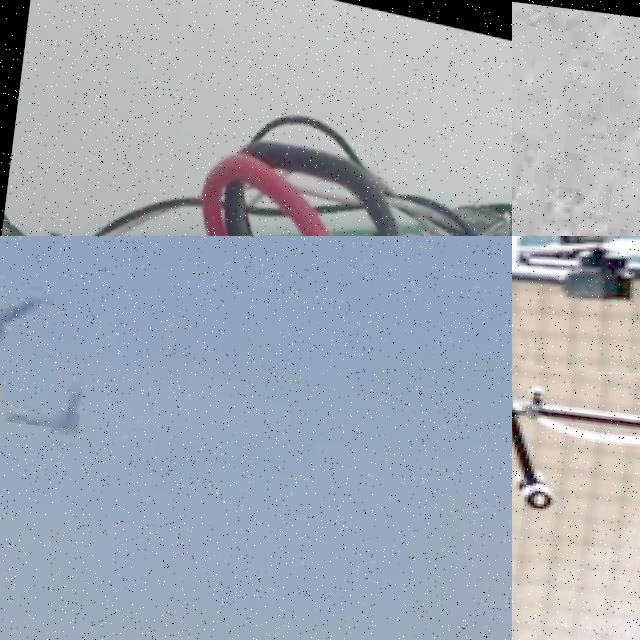drone: (0, 0, 512, 236), (512, 236, 640, 397)
